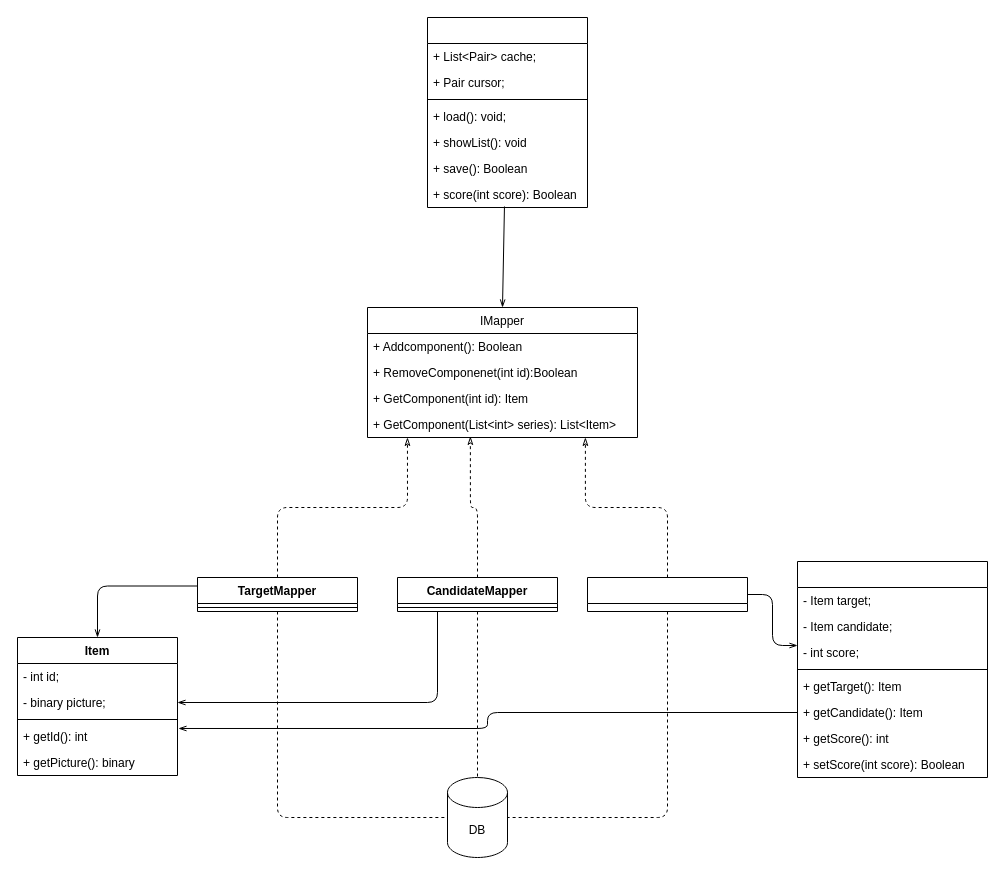
The diagram is 1005 pixels wide and 875 high, and some of its shapes have lost their labels. Each missing label, with the box of its shape:
MatchManager: (426, 16, 588, 208)
MatchMapper: (586, 576, 748, 612)
Pair: (796, 560, 988, 778)
